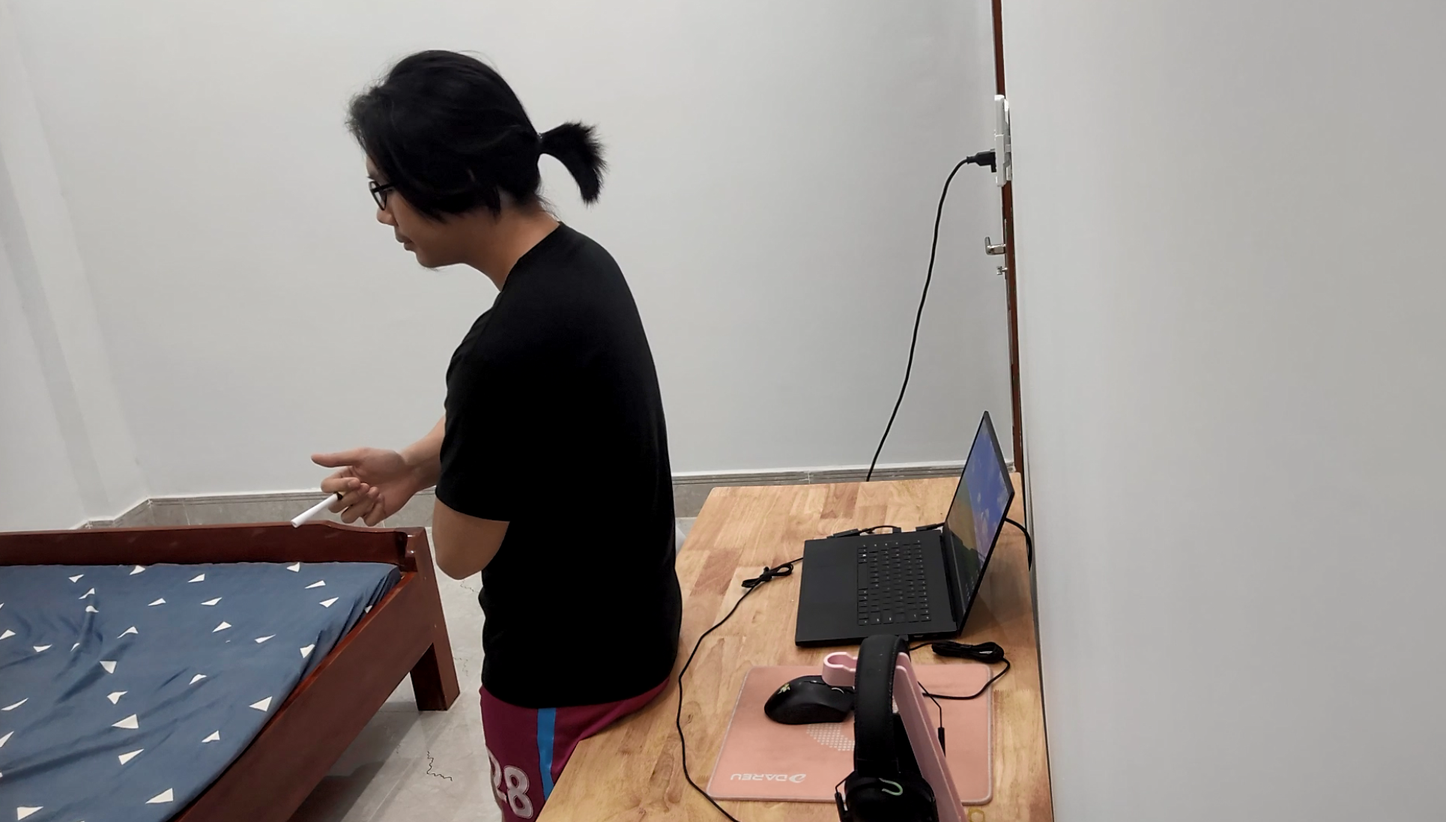cigarette: (287, 490, 355, 523)
person: (304, 33, 688, 822)
